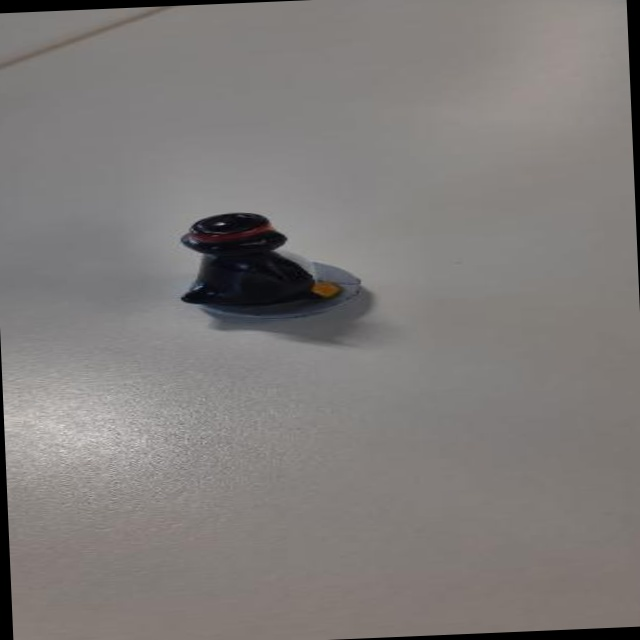Penguin: (161, 198, 377, 338)
